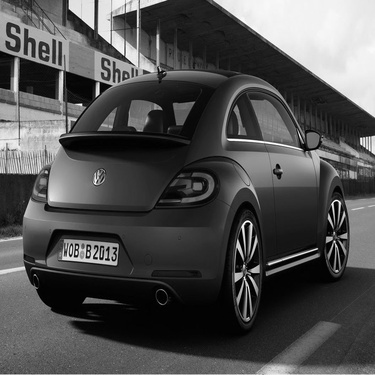car: (1, 67, 358, 335)
